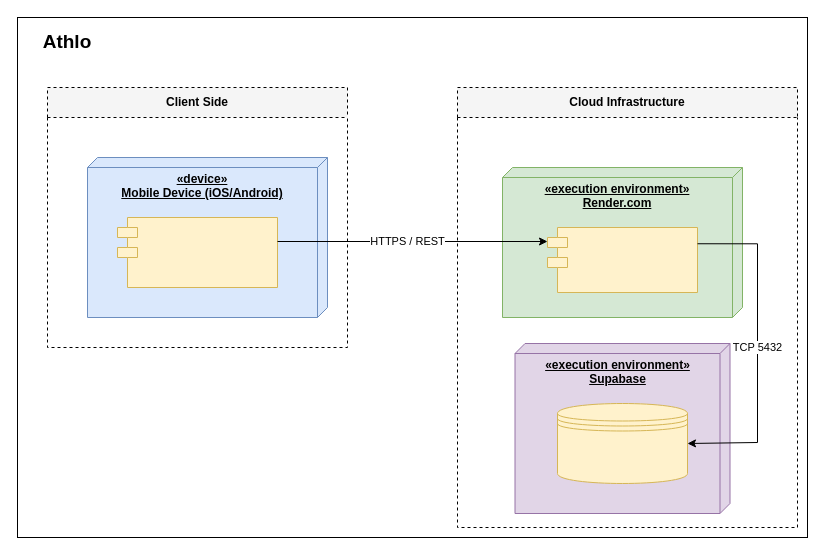
This 825x555 diagram has some shape labels left out. Here are the shapes that lost their labels. From the top down, the centre of each, then its label:
At point (197, 252): "«artifact» Athlo Mobile App (React Native / Expo)".
At point (622, 259): "«artifact» Athlo API (NestJS)".
At point (622, 443): "«artifact» PostgreSQL DB".
